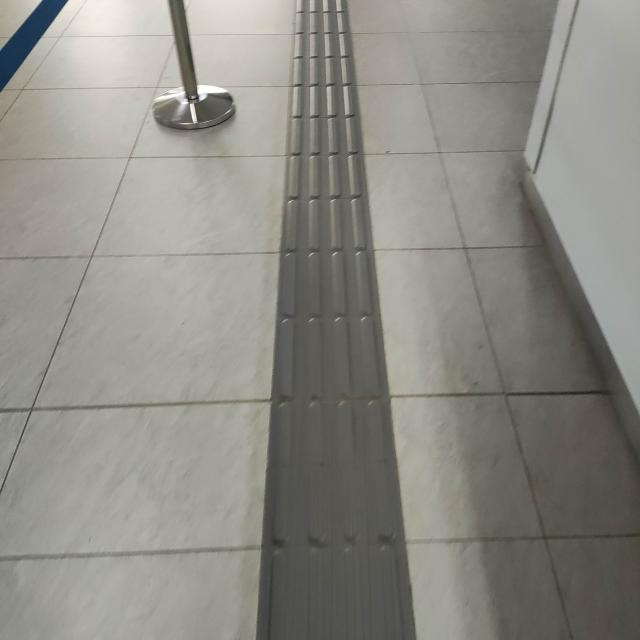lurus: (260, 22, 418, 640)
